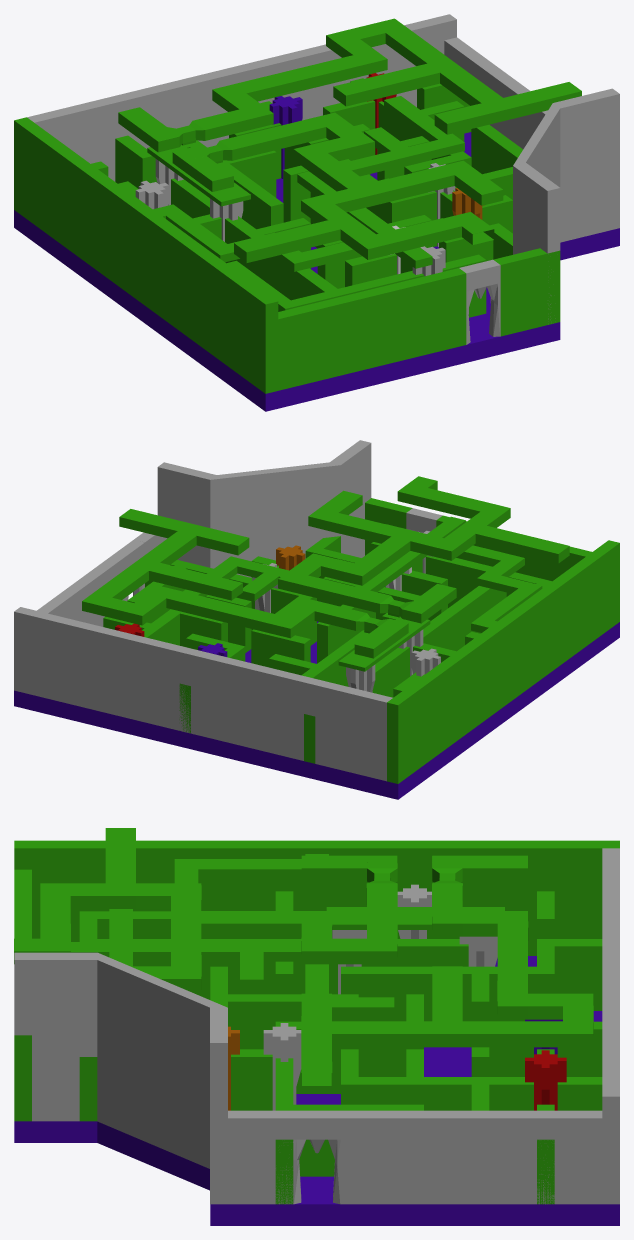
The model's file is Level3blend.obj.
3 renders of one model, top to bottom at view 1: azimuth 30°, elevation 25°; view 2: azimuth 150°, elevation 25°; view 3: azimuth 270°, elevation 25°, orthographic. The views are drawn at different scales.
Visible parts, largest first — view 1: Innenwand_Cube.010; view 2: Innenwand_Cube.010; view 3: Innenwand_Cube.010.
Part boxes in pixels (box(x1,y1,x2,y2)): Innenwand_Cube.010: box(14, 14, 619, 411); Innenwand_Cube.010: box(14, 440, 619, 799); Innenwand_Cube.010: box(14, 828, 619, 1225).
Size of the model in its own units: 51 by 17 by 51.03.
